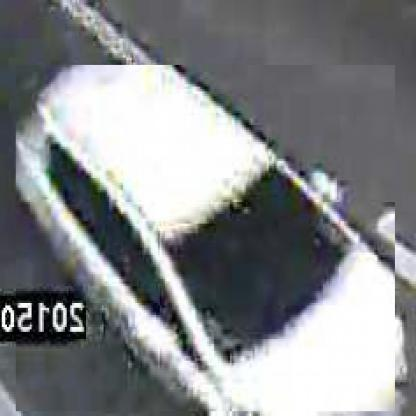car: (15, 66, 396, 415)
